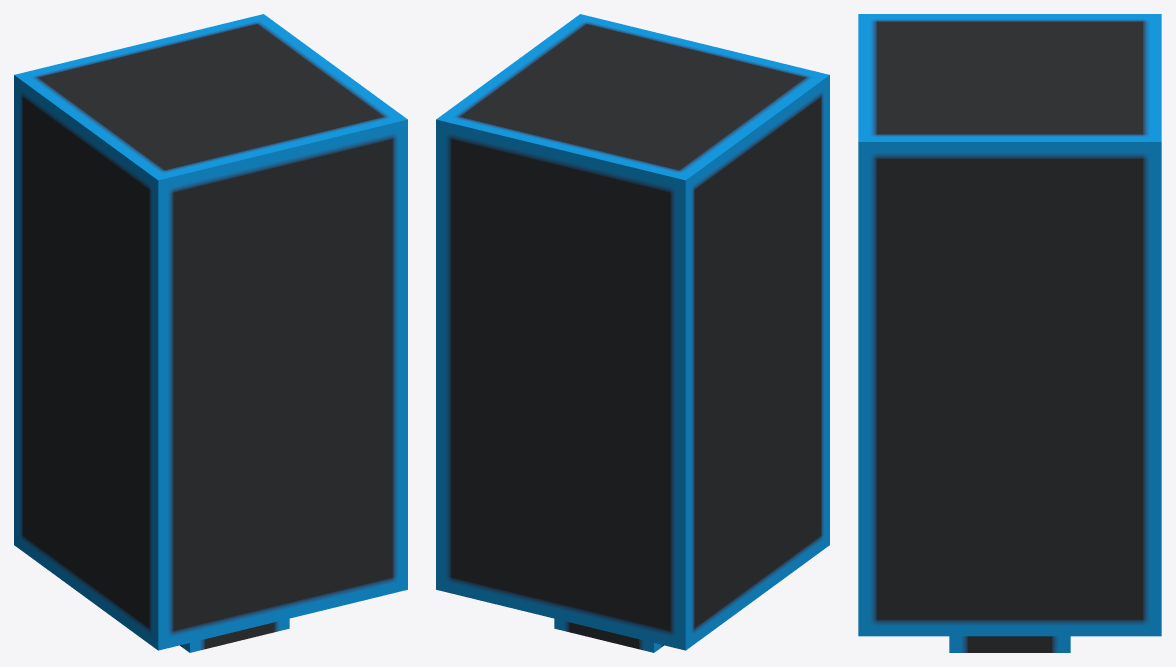
The model's file is PacMan_Tree3.fbx.
3 views of the same model, side by side, from view 1: azimuth 30°, elevation 25°; view 2: azimuth 150°, elevation 25°; view 3: azimuth 270°, elevation 25° (orthographic). The views are drawn at different scales.
Parts seen in each view (by area): view 1: Matrix; view 2: Matrix; view 3: Matrix.
Boxes of the visible parts, x1=… form: Matrix: x1=14, y1=14, x2=407, y2=652; Matrix: x1=436, y1=14, x2=829, y2=652; Matrix: x1=858, y1=14, x2=1161, y2=652.
Size of the model in its own units: 20 by 40 by 20.
1 material, 1 textured.
